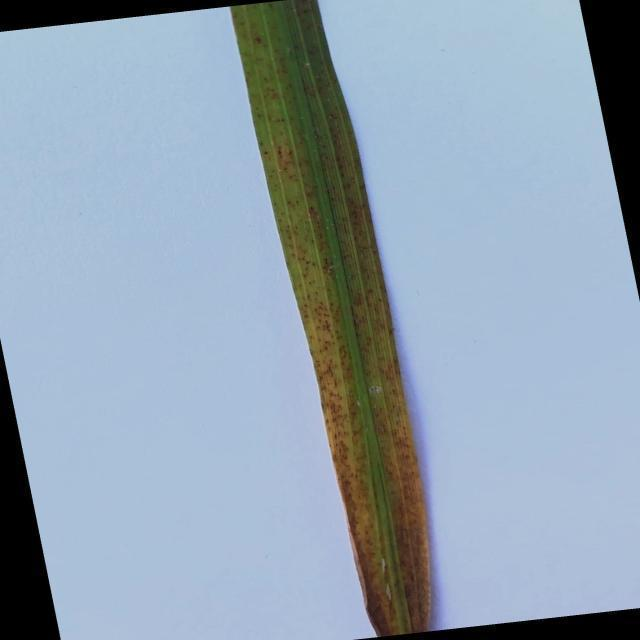Rice Tungro: (304, 286, 436, 640)
